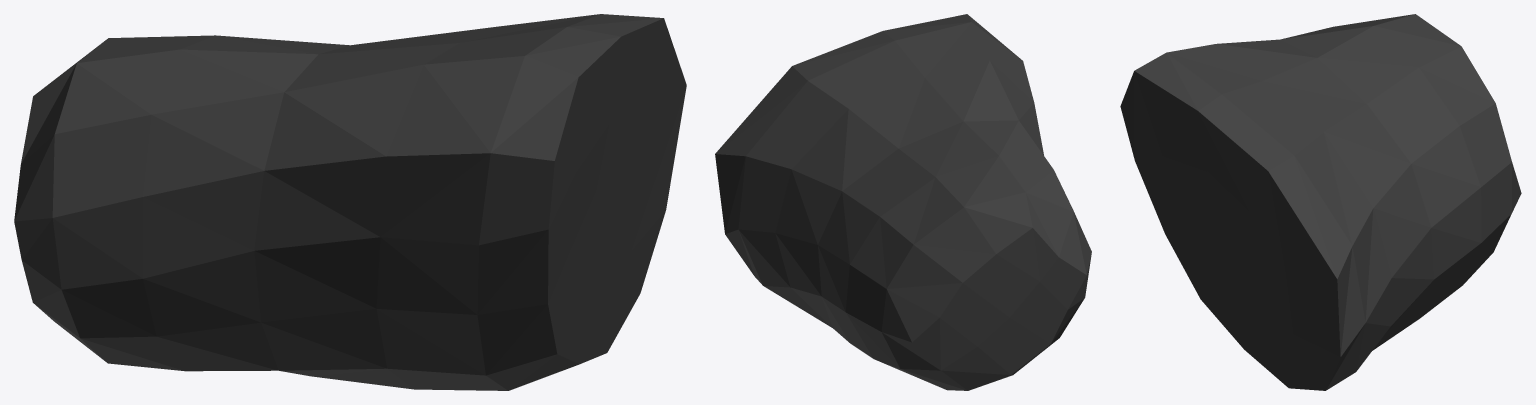
The model's file is R_sided_PULM_ARTERY_LEFT.glb.
The picture shows the model from 3 angles, left to right: view 1: azimuth 30°, elevation 25°; view 2: azimuth 150°, elevation 25°; view 3: azimuth 270°, elevation 25°; orthographic projection. The views are drawn at different scales.
Visible parts, largest first — view 1: R_sided_PULM_ARTERY_LEFT; view 2: R_sided_PULM_ARTERY_LEFT; view 3: R_sided_PULM_ARTERY_LEFT.
Part boxes in pixels (bbox=[...]): R_sided_PULM_ARTERY_LEFT: bbox=[14, 14, 686, 390]; R_sided_PULM_ARTERY_LEFT: bbox=[715, 14, 1091, 390]; R_sided_PULM_ARTERY_LEFT: bbox=[1120, 14, 1521, 390].
Bounding box in the file's own units: 1.38 × 0.8637 × 1.1.
1 material, 1 textured.
